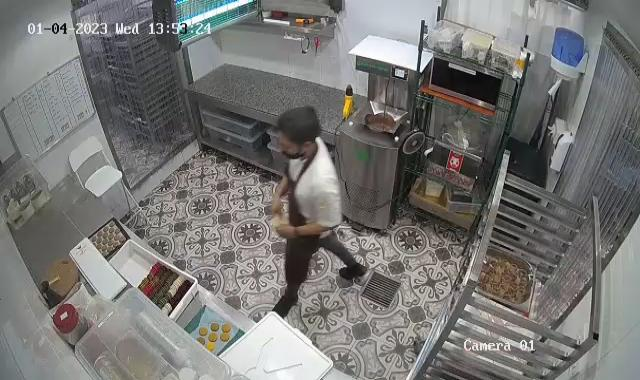no_hairnet: (276, 104, 320, 150)
